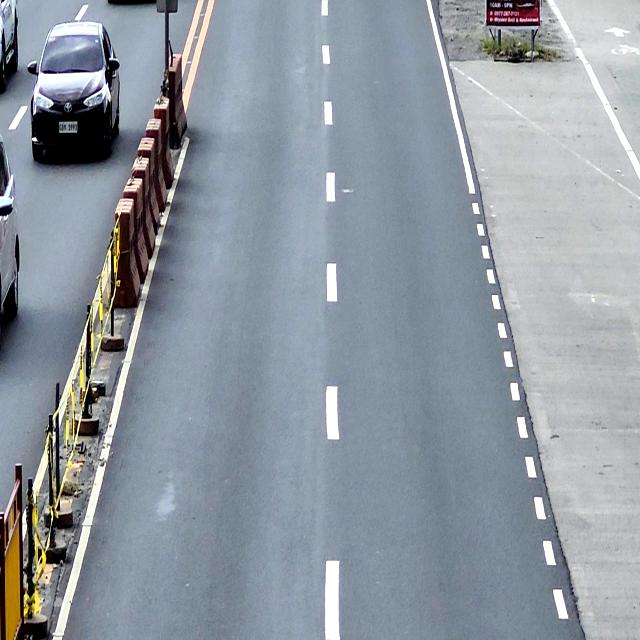Car: (28, 20, 120, 160), (0, 136, 20, 320), (0, 0, 18, 91)
License-Plate: (58, 119, 78, 135)
